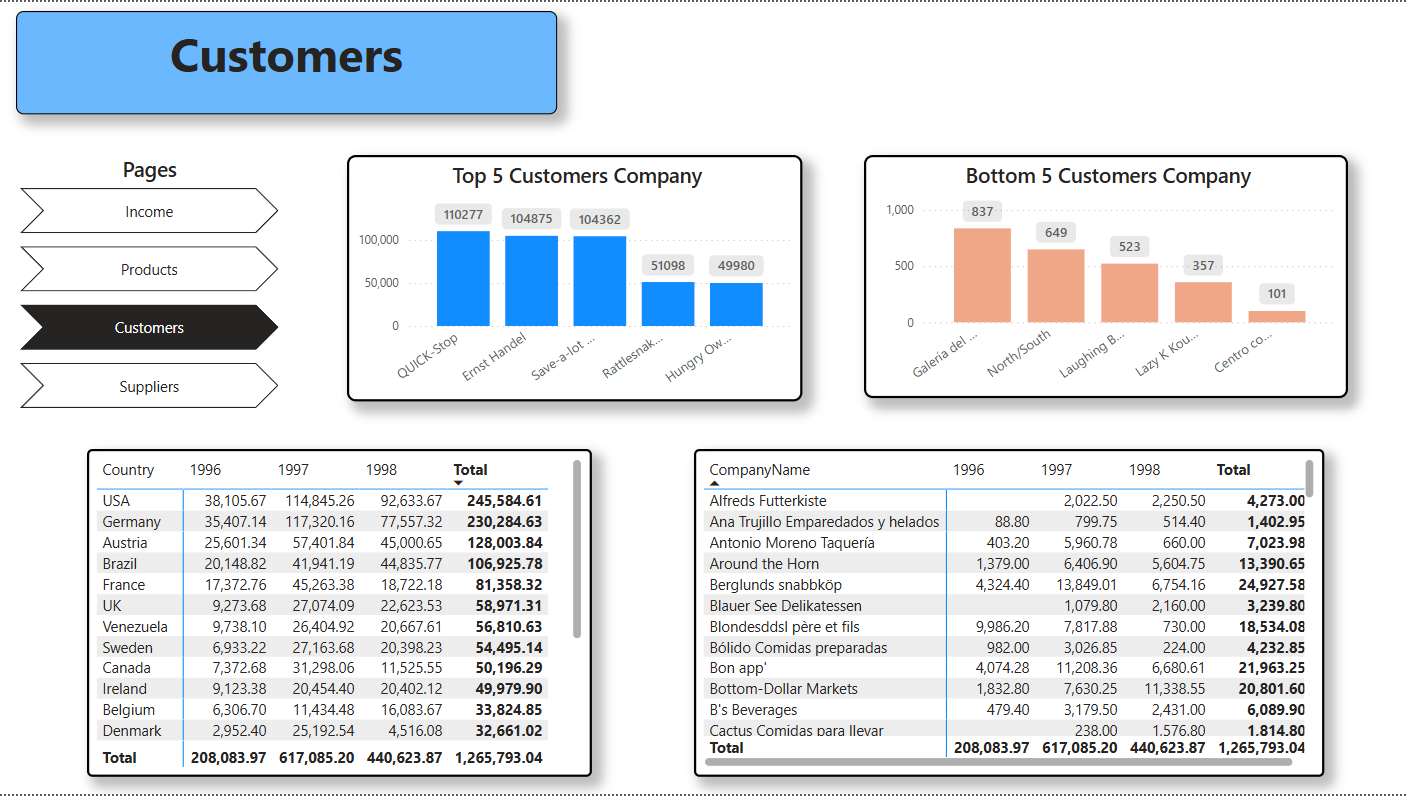

The dashboard page shown, as its layout file describes it:
{"tool":"powerbi","page":{"name":"Customers","canvas":[1280,720],"ordinal":2},"visuals":[{"type":"pivotTable","fields":{"Columns":["gold DimTime.CalendarYear"],"Values":["gold FactSales.Total Income"],"Rows":["gold DimCustomer.Country"]},"box":[80,406.7,458.9,297.8],"z":0},{"type":"pivotTable","fields":{"Columns":["gold DimTime.CalendarYear"],"Values":["gold FactSales.Total Income"],"Rows":["gold DimCustomer.CompanyName"]},"box":[632.2,406.7,573.3,297.8],"z":1000},{"type":"columnChart","title":"Top 5 Customers Company","fields":{"Category":["gold DimCustomer.CompanyName"],"Y":["gold FactSales.Total Amount"]},"box":[316.7,138.9,414.4,224.4],"z":2000},{"type":"columnChart","title":"Bottom 5 Customers Company","fields":{"Category":["gold DimCustomer.CompanyName"],"Y":["gold FactSales.Total Amount"]},"box":[786.7,138.9,440,221.1],"z":3000},{"type":"pageNavigator","title":"Pages","box":[18.9,138.9,235.6,231.1],"z":3001}]}

Visuals, with their boxes in screenshot pixels (x1, y1, x2, y2), scaled from the page's 1280x720 canvas onto the 1406x797 screenshot:
pivotTable - gold DimTime.CalendarYear x gold FactSales.Total Income: box=[88, 450, 592, 780]
pivotTable - gold DimTime.CalendarYear x gold FactSales.Total Income: box=[694, 450, 1324, 780]
"Top 5 Customers Company" columnChart: box=[348, 154, 803, 402]
"Bottom 5 Customers Company" columnChart: box=[864, 154, 1347, 398]
"Pages" pageNavigator: box=[21, 154, 280, 410]
